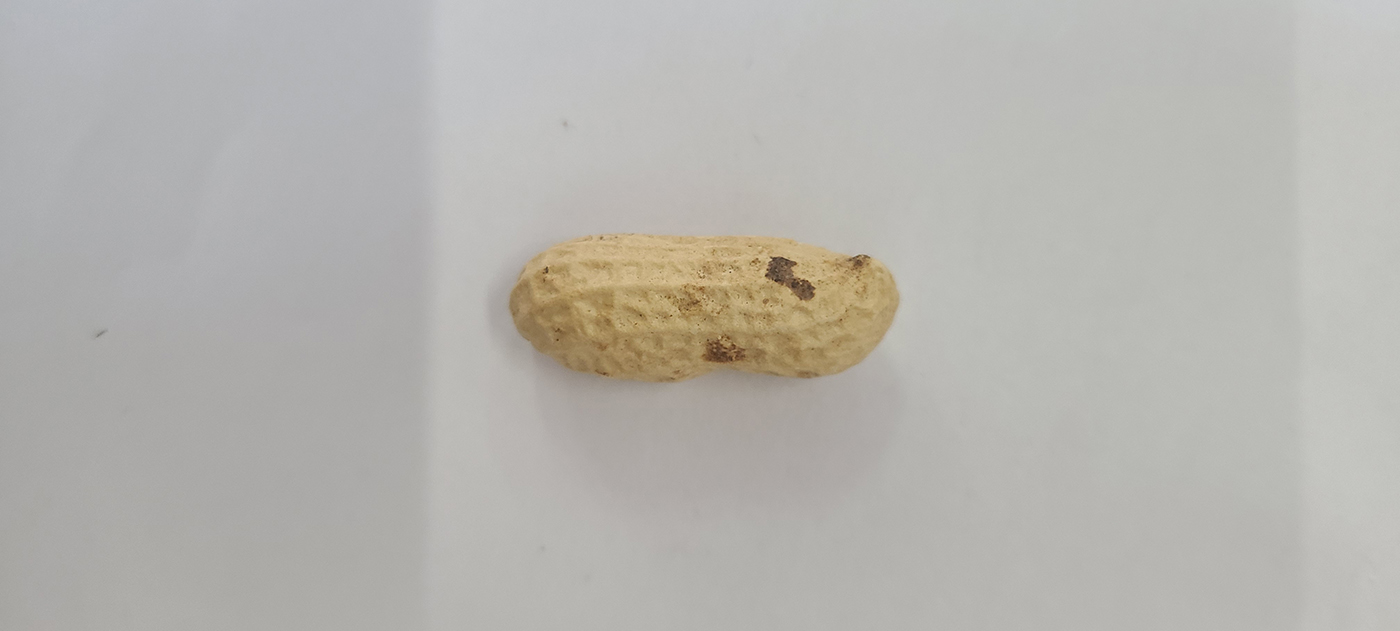h: (508, 229, 901, 385)
